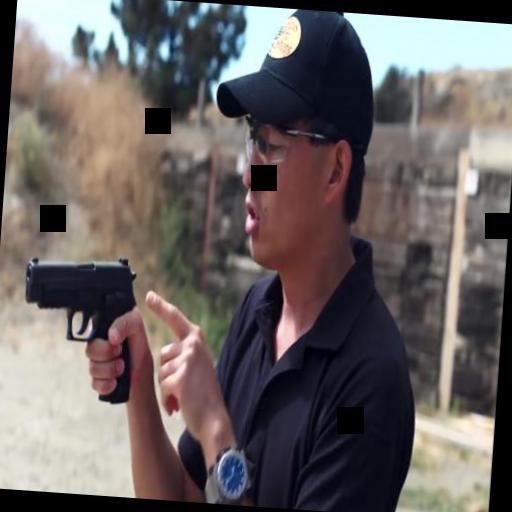Handgun: (16, 249, 146, 406)
